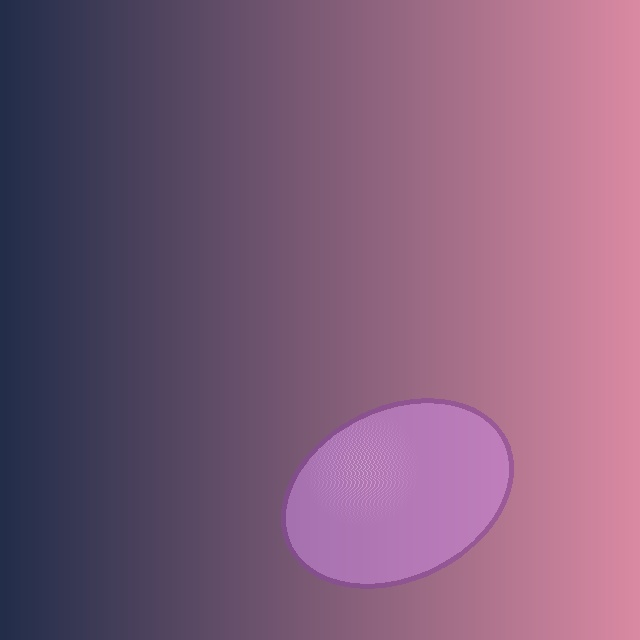lens: (283, 401, 511, 585)
